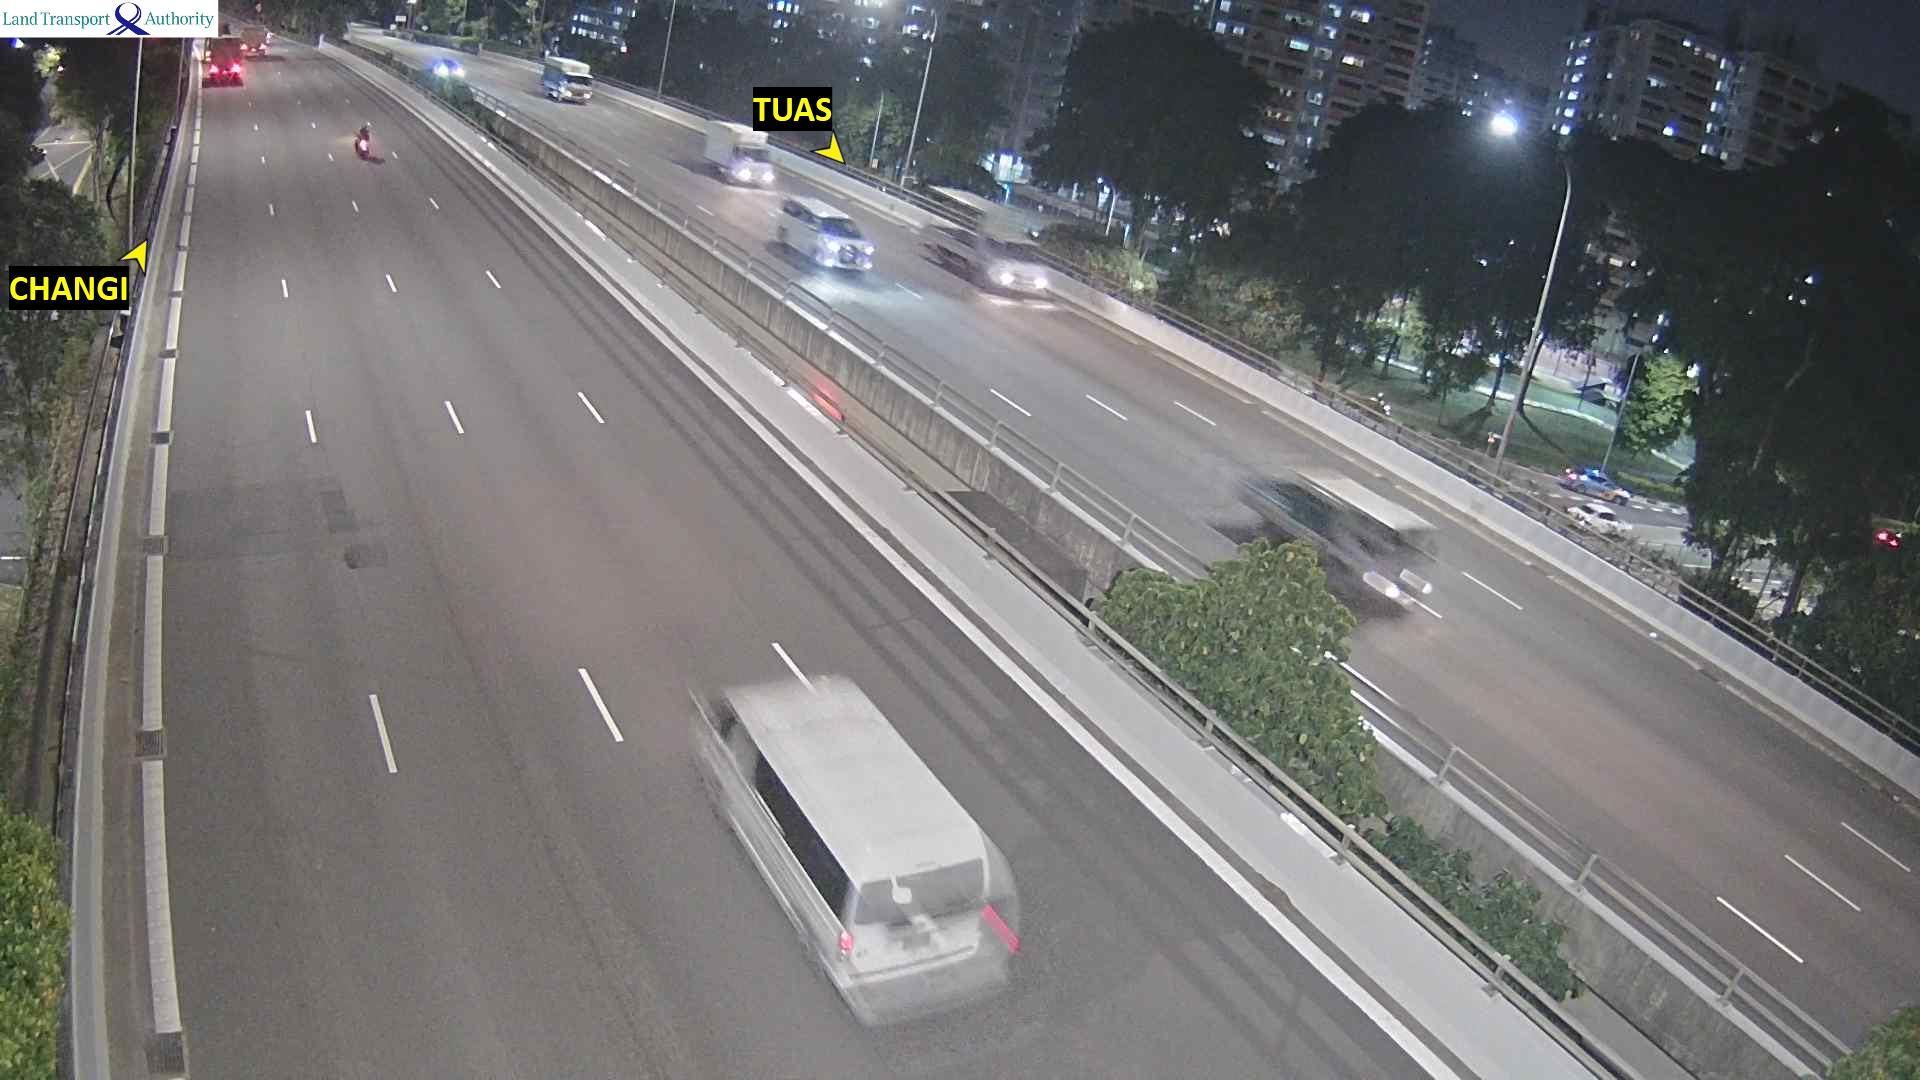incoming: (992, 241, 1059, 303), (810, 219, 881, 273), (735, 148, 777, 190), (555, 73, 603, 103)
